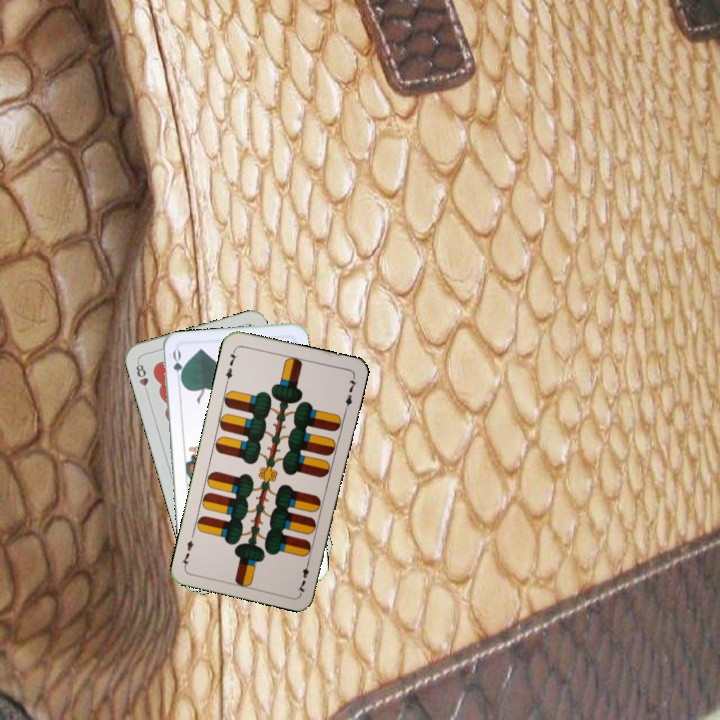E7: (293, 555, 312, 595), (222, 345, 240, 385)
GO: (169, 346, 186, 387)
H8: (132, 358, 151, 397)
